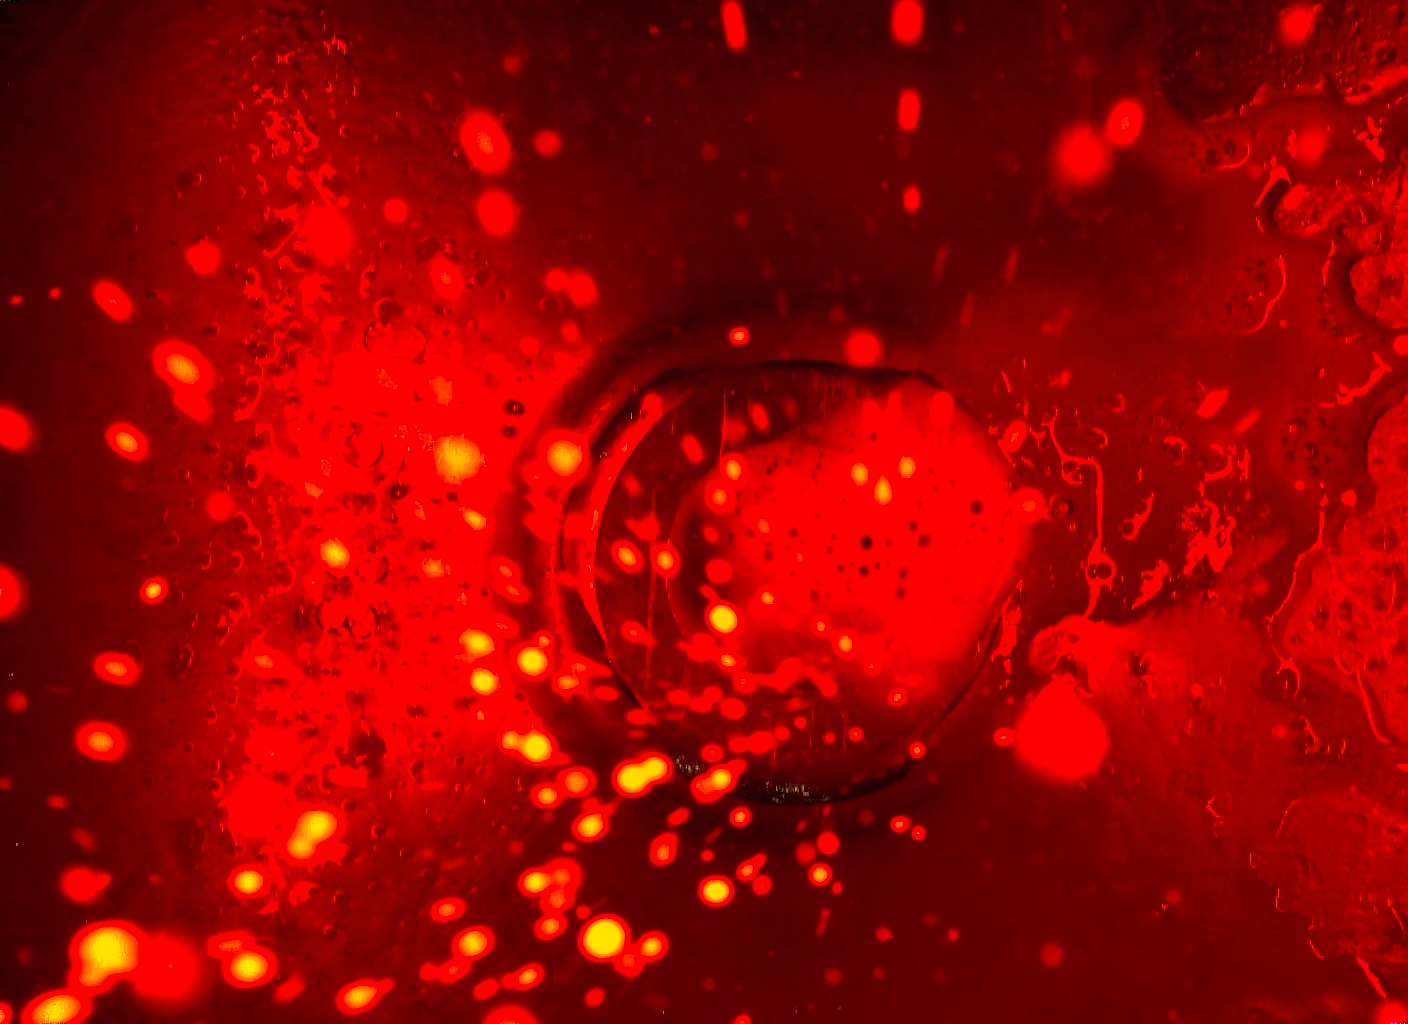fontan: (36, 17, 1378, 1016)
